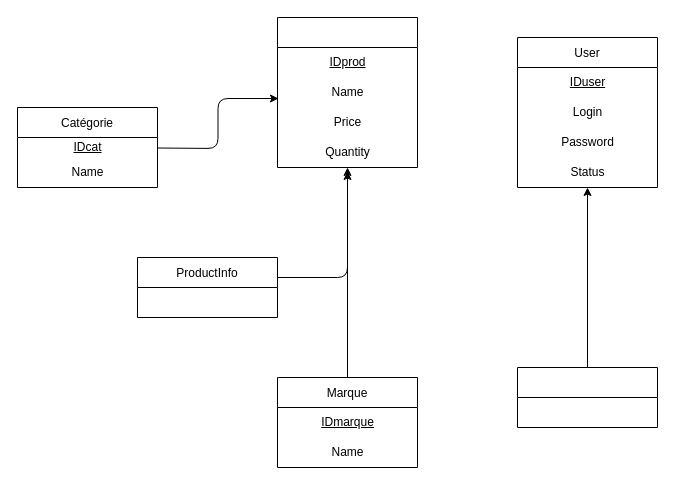
Image size: 675x485. Some labels were removed from this diagram. The box of each missing label's shape, as (x1, y1, x2, y2) in pixels:
Produit: (276, 16, 418, 168)
UserInfo: (516, 366, 658, 428)
